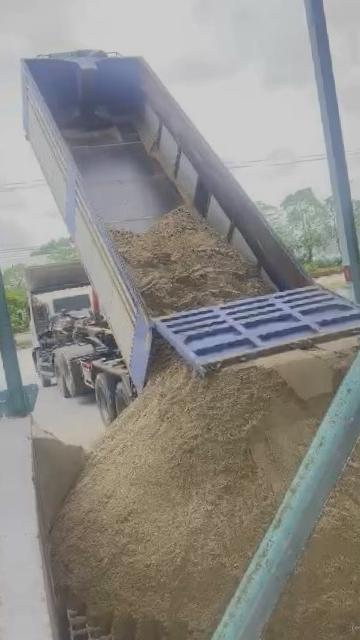sand: (52, 339, 358, 640), (268, 412, 360, 634), (115, 210, 269, 313), (34, 424, 85, 530)
